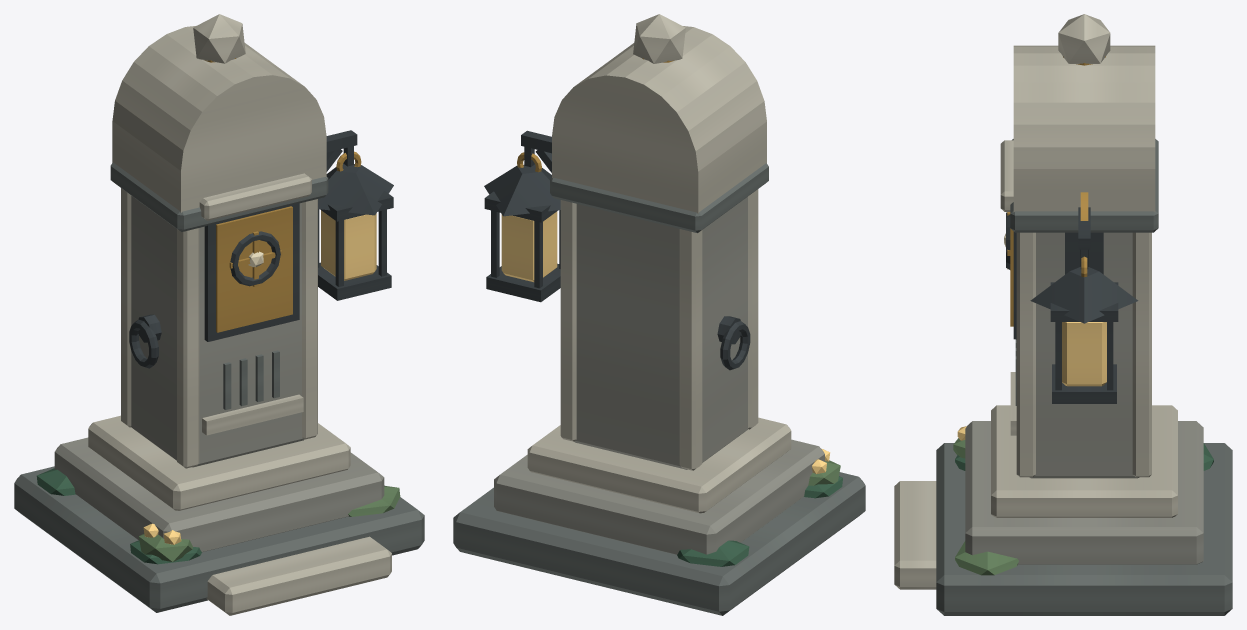
Rendered from milestone_carved.glb.
3 views of the same model, side by side, from view 1: azimuth 30°, elevation 25°; view 2: azimuth 150°, elevation 25°; view 3: azimuth 270°, elevation 25° (orthographic). The views are drawn at different scales.
Parts seen in each view (by area): view 1: milestone_carved; view 2: milestone_carved; view 3: milestone_carved.
Part boxes in pixels (bbox=[...]): milestone_carved: bbox=[14, 14, 424, 615]; milestone_carved: bbox=[453, 14, 865, 615]; milestone_carved: bbox=[894, 14, 1232, 615].
Size of the model in its own units: 1.16 by 1.84 by 1.05.
1 material, 1 textured.
